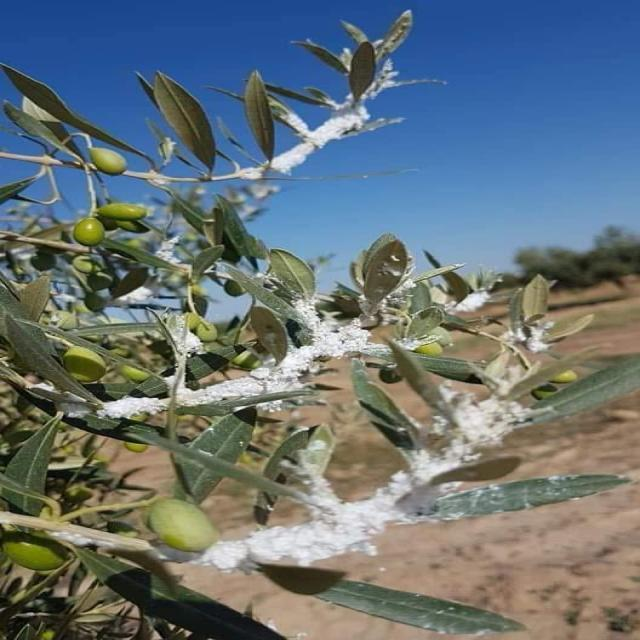Psyllid: (194, 386, 519, 571), (269, 11, 440, 172), (178, 299, 386, 406), (100, 400, 158, 417)
